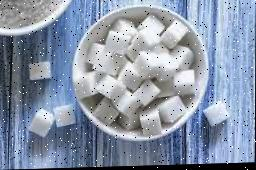cube: (202, 101, 230, 130), (28, 110, 53, 138), (54, 104, 75, 128), (29, 61, 51, 81)
